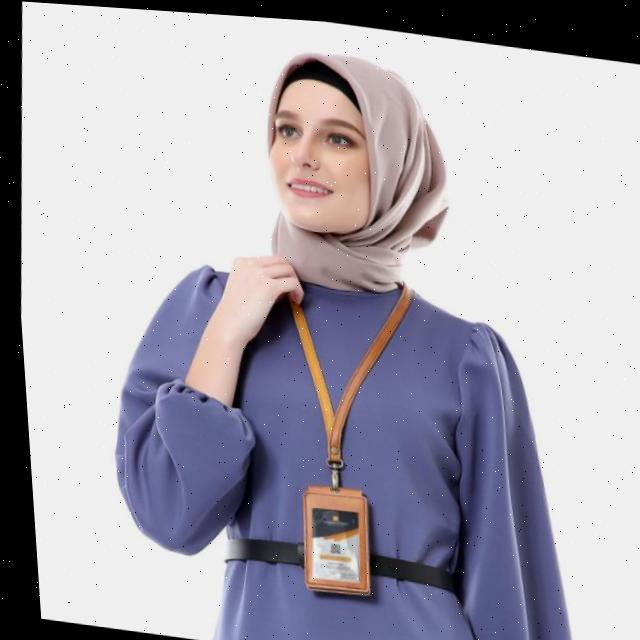id_card: (246, 251, 429, 608)
